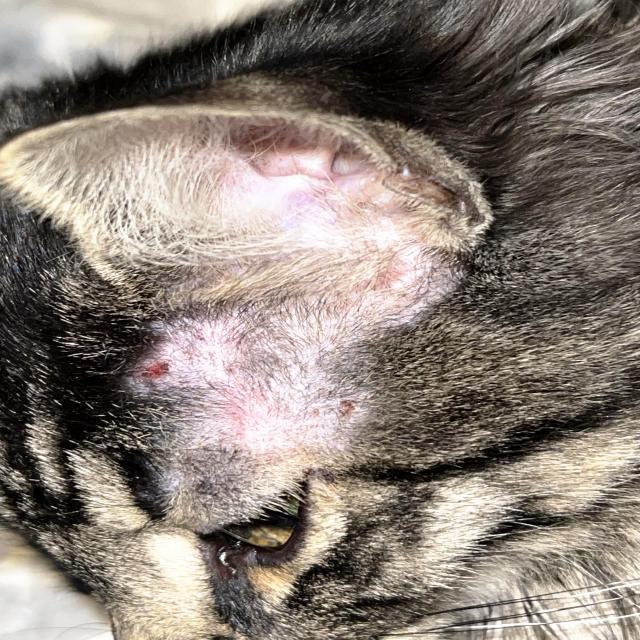ringworm: (140, 306, 354, 452)
